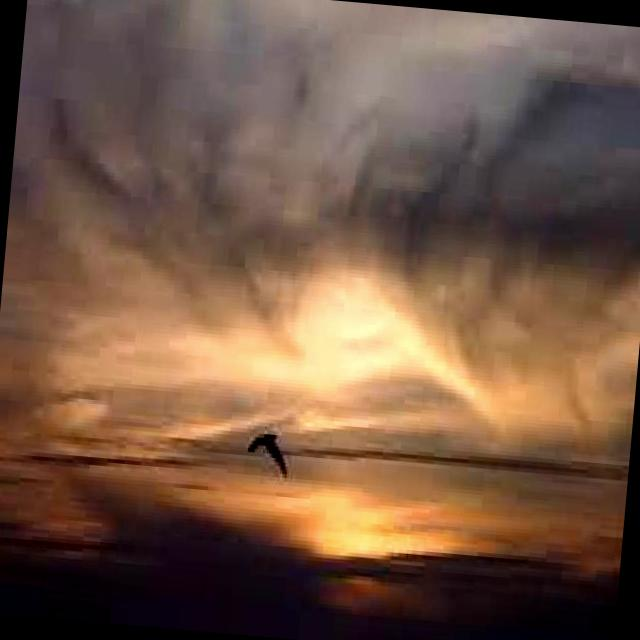bird: (238, 416, 300, 490)
